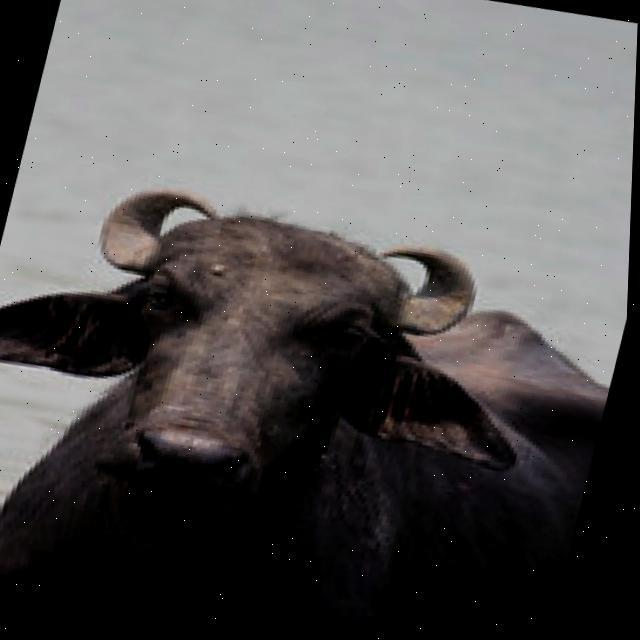Buffalo: (0, 128, 634, 640)
